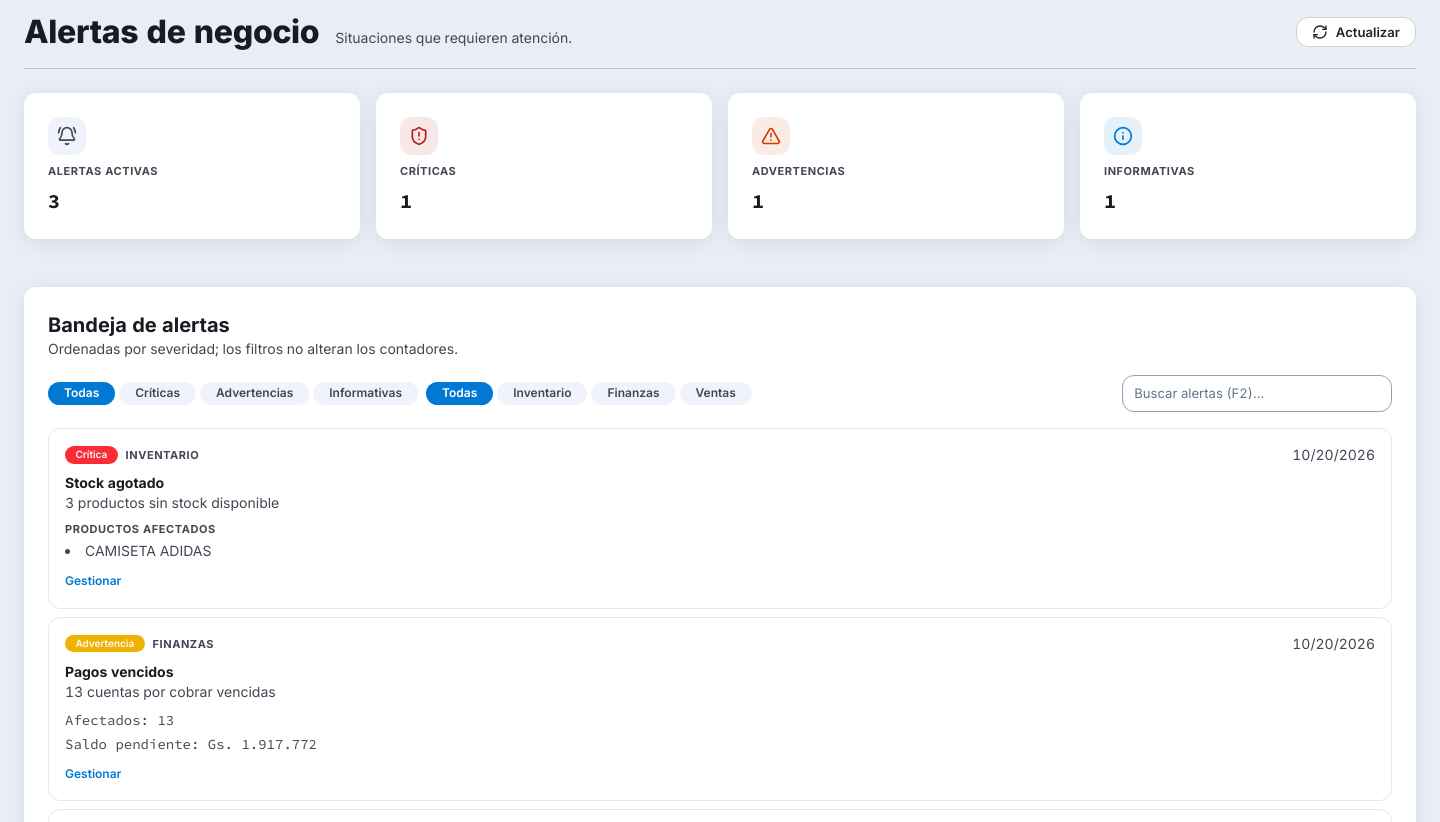
Test: AlertsPage (F2) › busca por texto y muestra el empty de filtros con acción para limpiar
Expected: the heading "Stock agotado" is shown, [65,474,164,491]
Type "vencidos" into the field labelled "Buscar alertas" at {"x": 1257, "y": 393}, box [1122,374,1392,412]
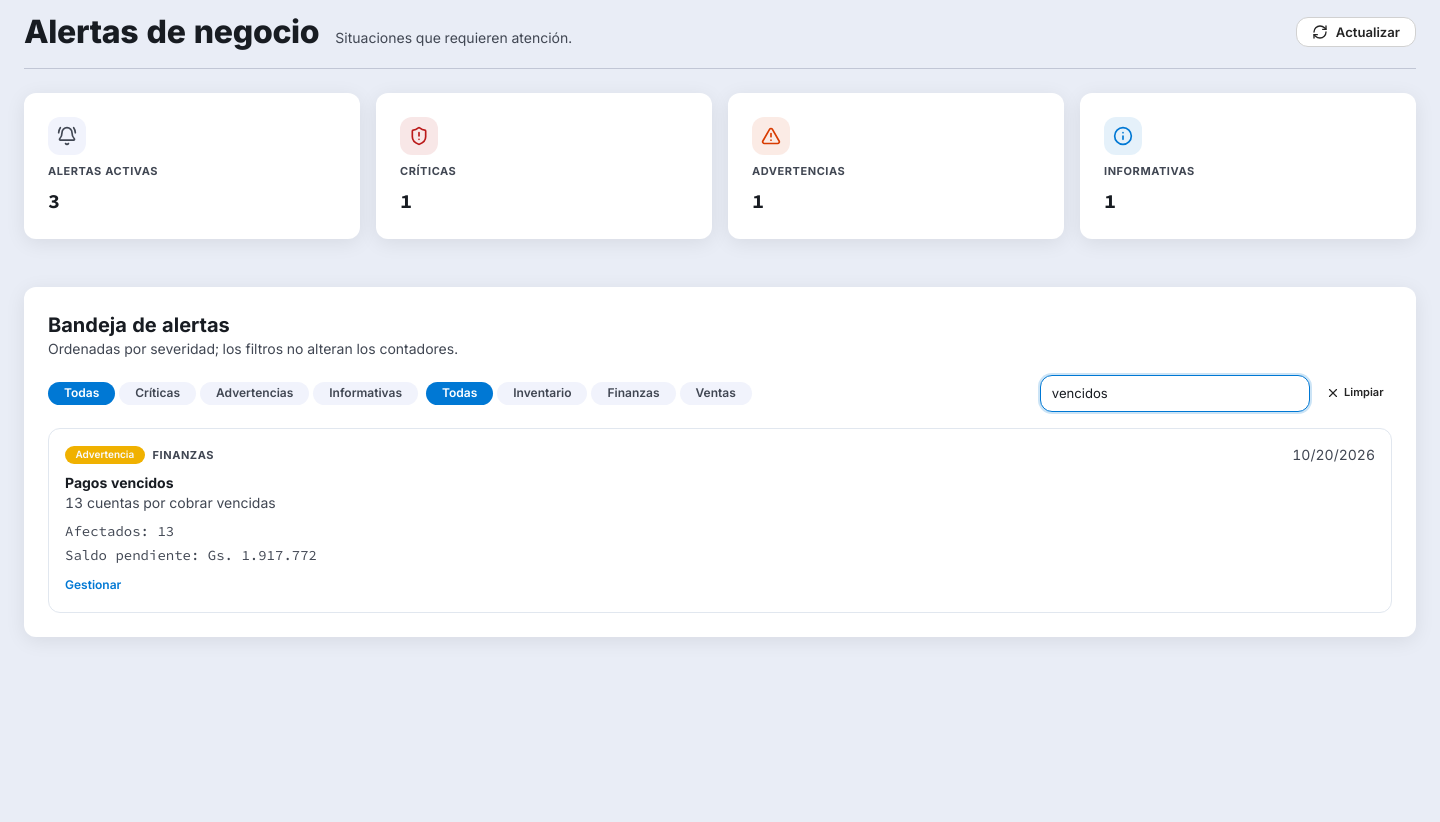
Expected: the heading "Pagos vencidos" is shown, [65,474,174,491]
Expected: the heading "Stock agotado" is gone
Clear the field named "Buscar alertas" at {"x": 1175, "y": 393}, box [1040,374,1310,412]
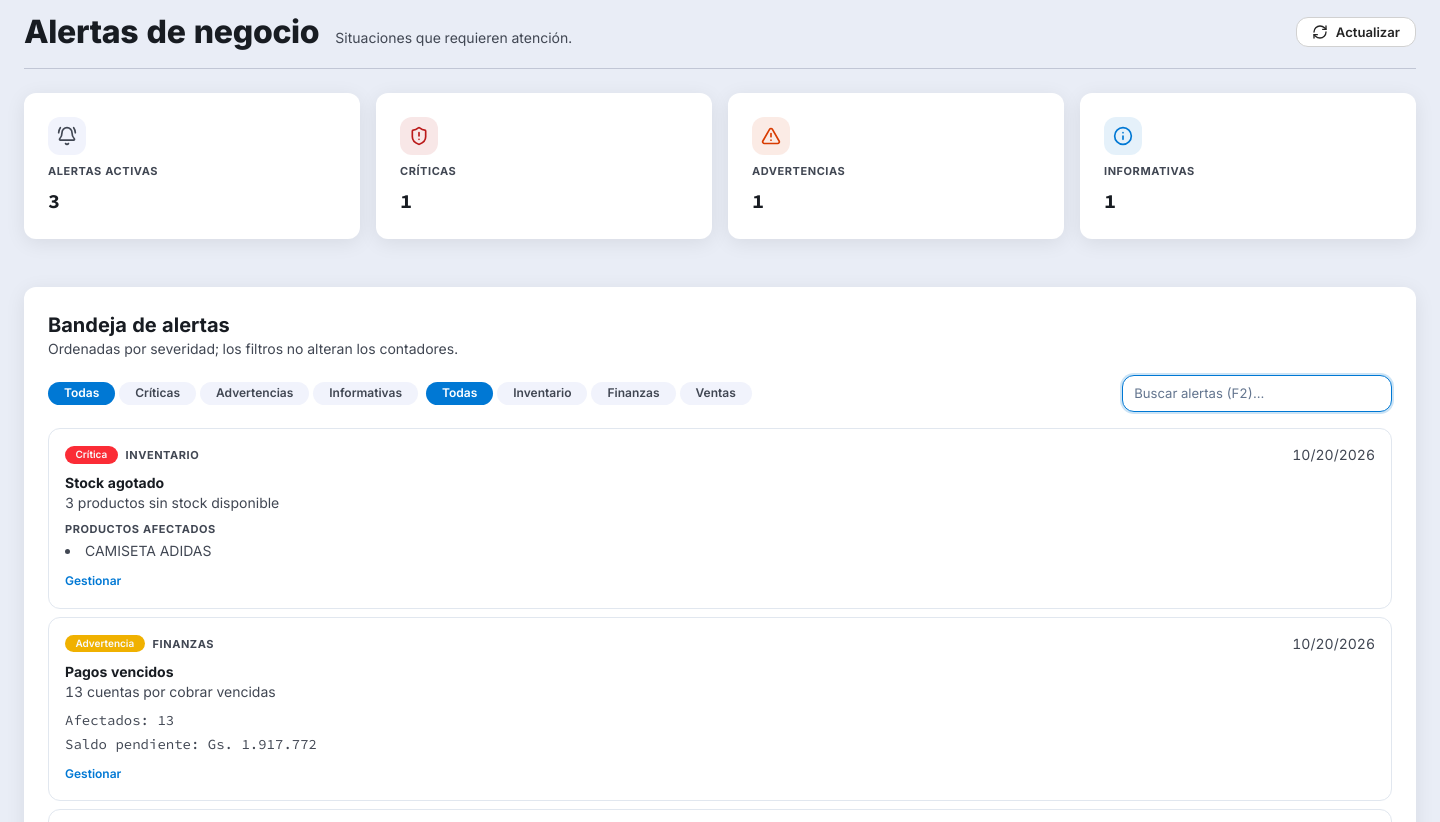
Type "zzzzz" into the field labelled "Buscar alertas" at {"x": 1257, "y": 393}, box [1122,374,1392,412]
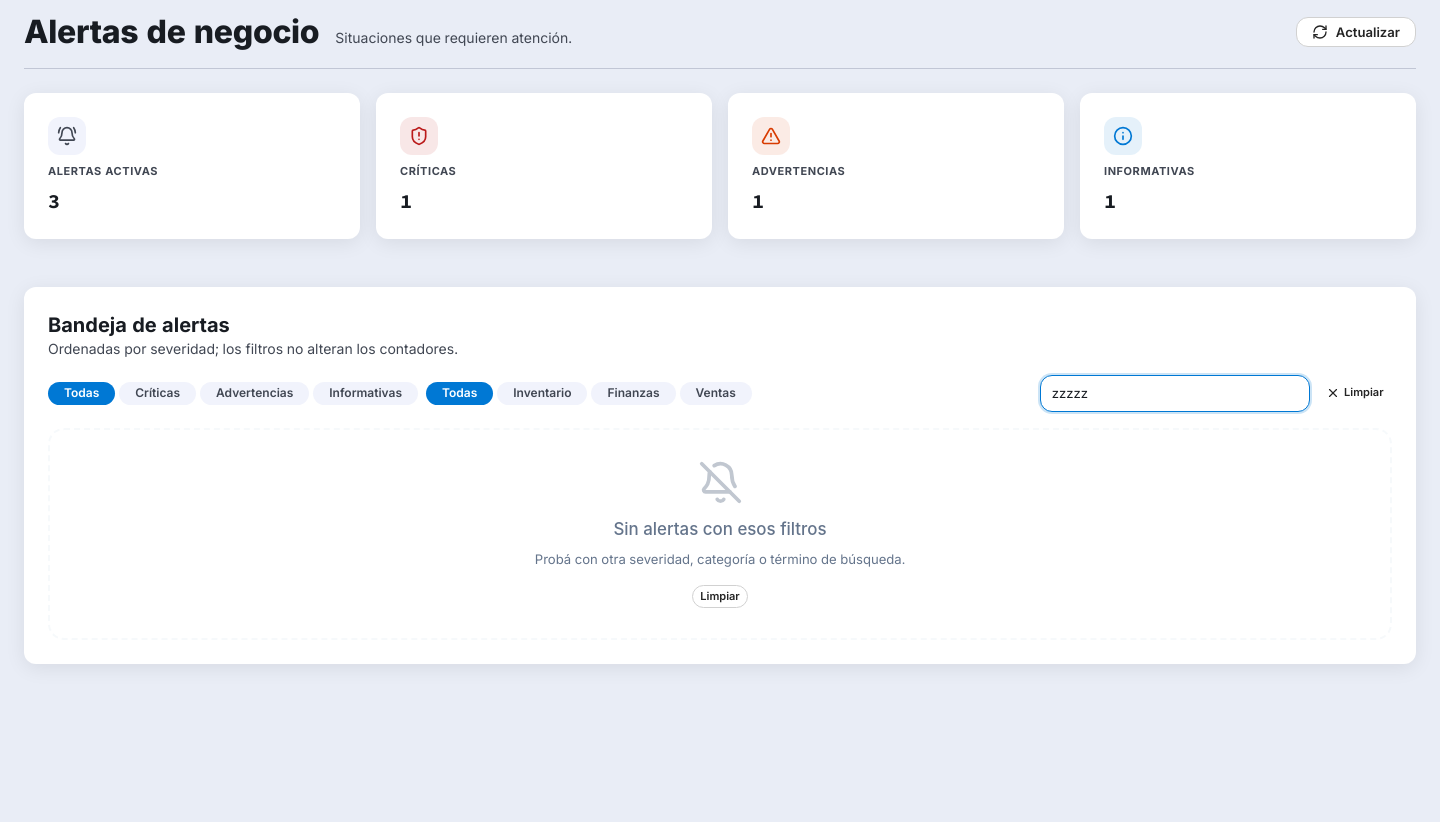
Expected: the text "Sin alertas con esos filtros" is shown, [614,519,827,539]
Expected: the 1st button "Limpiar" is shown, [1318,382,1392,404]
